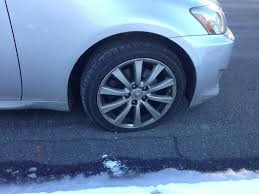Dent: (205, 60, 228, 94)
